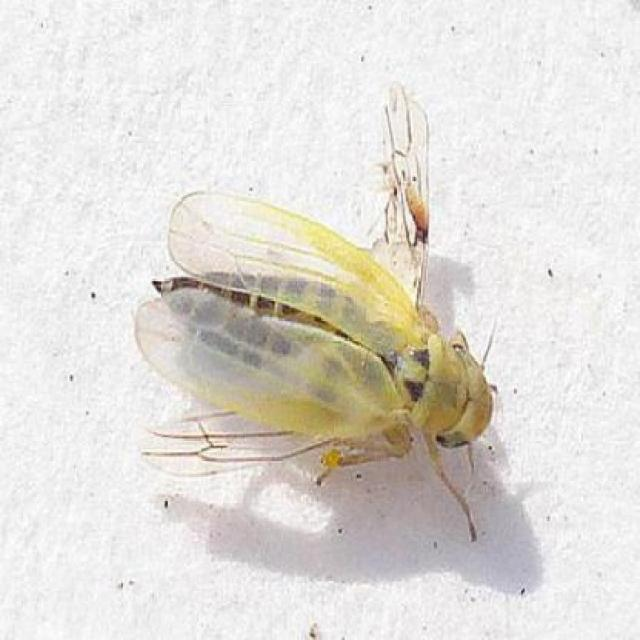green-leafhopper: (128, 174, 498, 495)
